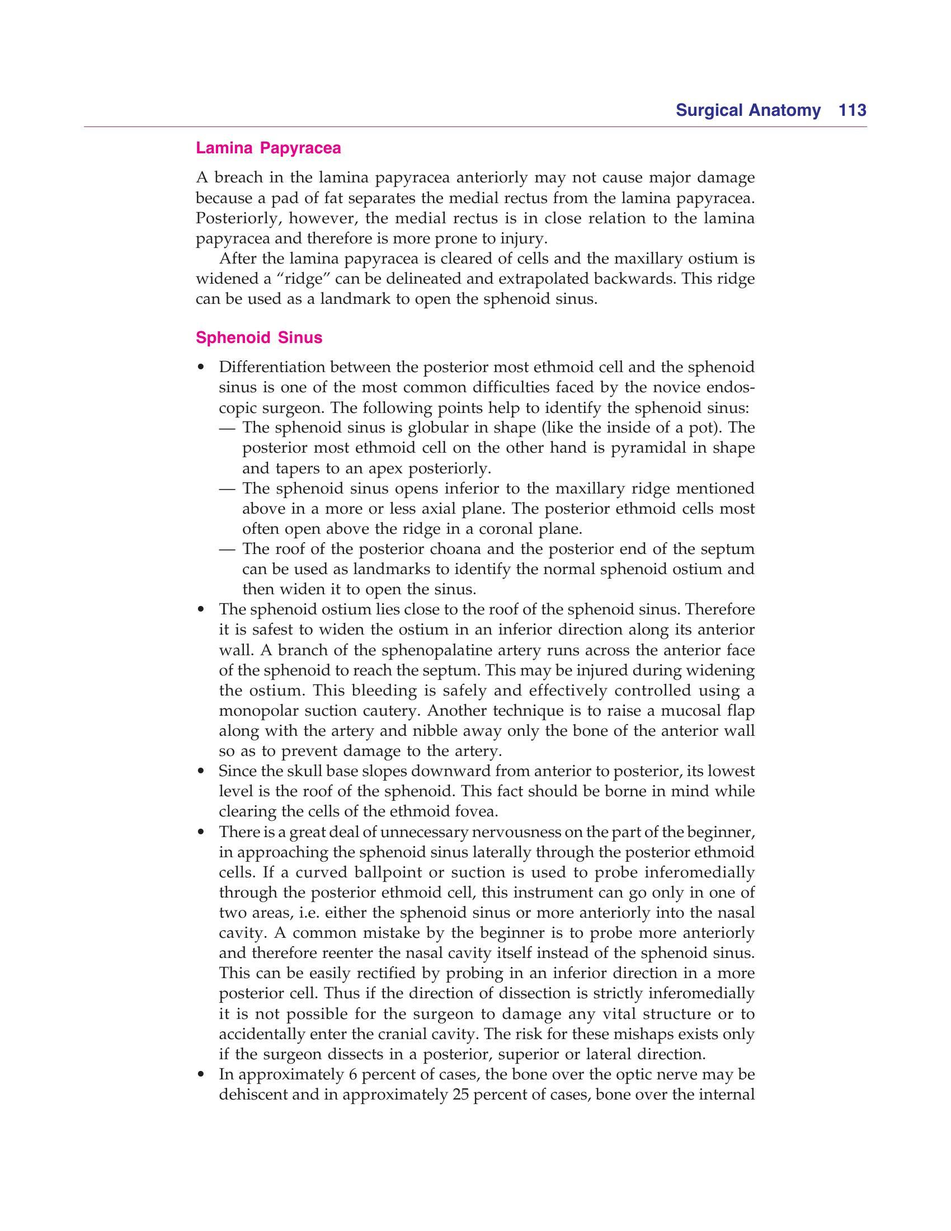header: (674, 101, 822, 120)
list: (195, 358, 757, 1106)
sub-section-heading: (195, 140, 342, 158), (195, 329, 324, 348)
text: (194, 168, 758, 311)
